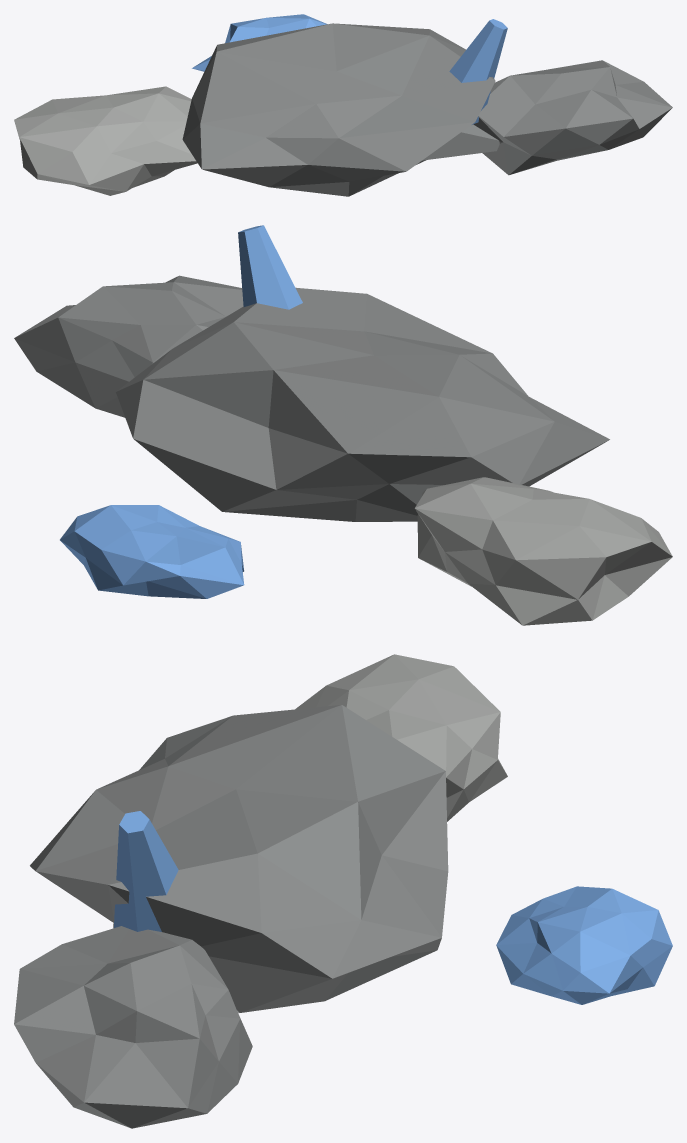
The model's file is t4_ore_depleted.glb.
3 views of the same model, one above another, from view 1: azimuth 30°, elevation 25°; view 2: azimuth 150°, elevation 25°; view 3: azimuth 270°, elevation 25° (orthographic). The views are drawn at different scales.
Parts seen in each view (by area): view 1: OreRubbleCenter, OreRubbleLeft, OreRubbleRight, SpentOreShard, OreChip; view 2: OreRubbleCenter, OreRubbleLeft, OreRubbleRight, OreChip, SpentOreShard; view 3: OreRubbleCenter, OreRubbleRight, OreChip, OreRubbleLeft, SpentOreShard.
Boxes of the visible parts, x1,y1,x2,y2 form: OreRubbleCenter: (182, 23, 499, 196); OreRubbleLeft: (14, 86, 197, 195); OreRubbleRight: (473, 60, 672, 175); SpentOreShard: (449, 19, 507, 124); OreChip: (192, 14, 327, 71); OreRubbleCenter: (116, 287, 609, 521); OreRubbleLeft: (414, 477, 672, 625); OreRubbleRight: (14, 275, 243, 417); OreChip: (60, 505, 244, 598); SpentOreShard: (238, 225, 302, 309); OreRubbleCenter: (30, 705, 448, 1013); OreRubbleRight: (14, 926, 252, 1128); OreChip: (496, 886, 672, 1004); OreRubbleLeft: (295, 654, 507, 821); SpentOreShard: (114, 811, 178, 931).
Size of the model in its own units: 0.9552 by 0.2367 by 0.6512.
